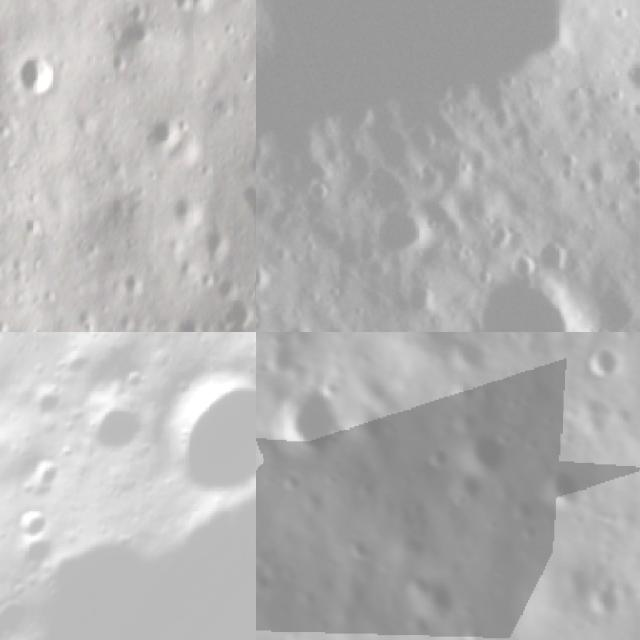crater: (256, 0, 616, 218), (0, 370, 256, 640), (116, 332, 256, 550), (427, 221, 640, 332), (54, 372, 156, 477), (278, 381, 334, 462), (8, 448, 70, 514), (10, 43, 65, 109), (0, 492, 58, 551), (141, 104, 188, 157), (464, 431, 512, 476), (3, 332, 47, 379), (543, 470, 586, 511), (581, 346, 628, 380), (592, 578, 630, 615), (420, 442, 449, 476), (239, 174, 256, 228), (342, 541, 374, 565), (250, 274, 256, 303)
